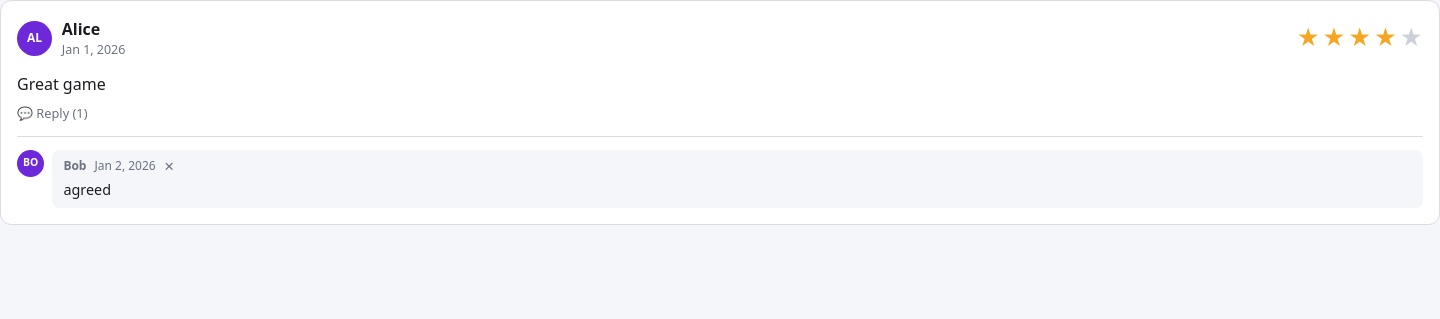
Test: ReviewCard › bascule la zone de réponse pour un utilisateur connecté
Step 1. Click the button "💬 Reply (1)" → (52, 113), box x1=17 y1=104 x2=88 y2=123
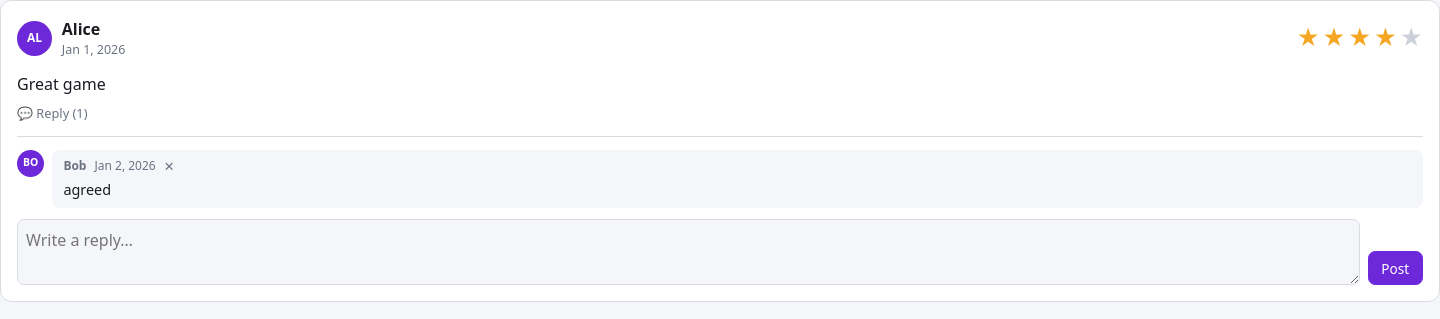
expect the text box with placeholder "Write a reply…" is shown: met, box x1=17 y1=219 x2=1360 y2=285
